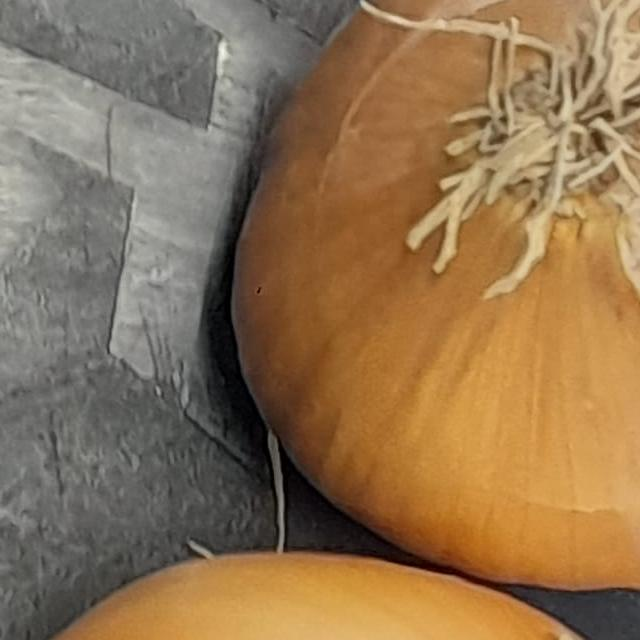onion: (190, 0, 640, 593), (0, 476, 640, 640)
